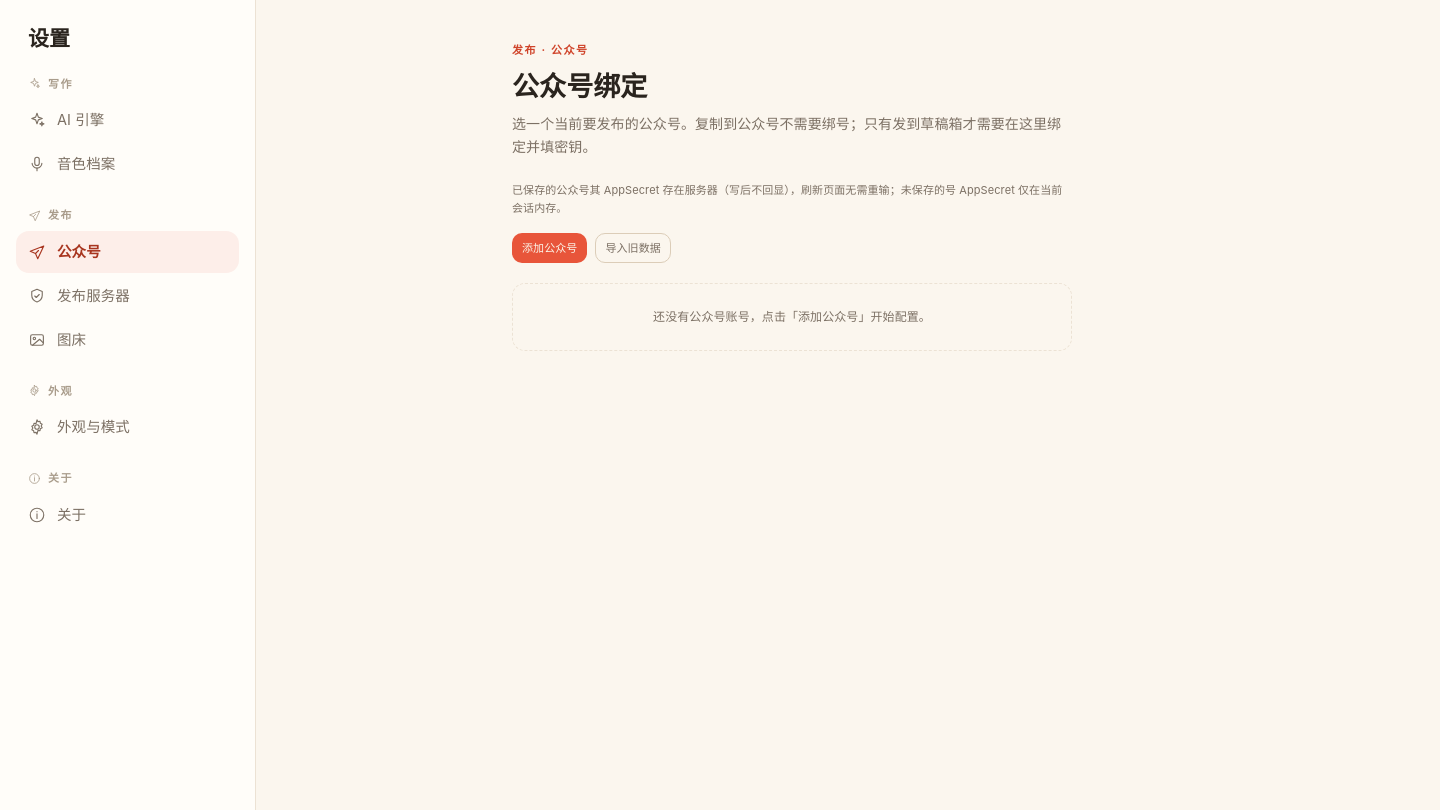
Scenario: SettingsSurface WeChat section › binds a new account through the wizard (test-first) and persists to store
This screenshot has width=1440, height=810.
Click the button "添加公众号" at (550, 248), box left=512, top=233, right=587, bottom=263
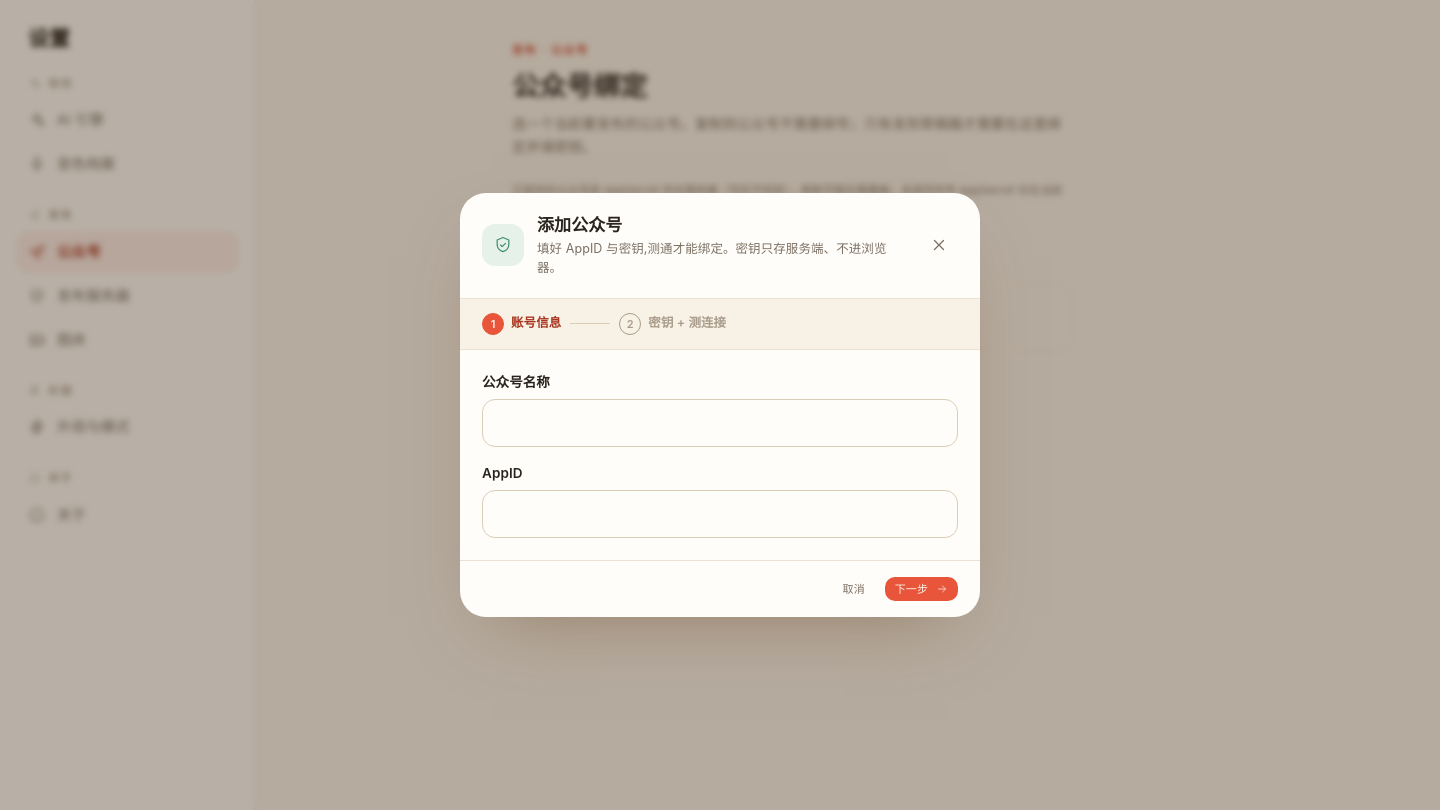
Type "MB 科技" into the field named "名称" at (720, 423), box left=497, top=400, right=943, bottom=446
Type "wxa7b6e6test" into the field named "AppID" at (720, 514), box left=497, top=491, right=943, bottom=537
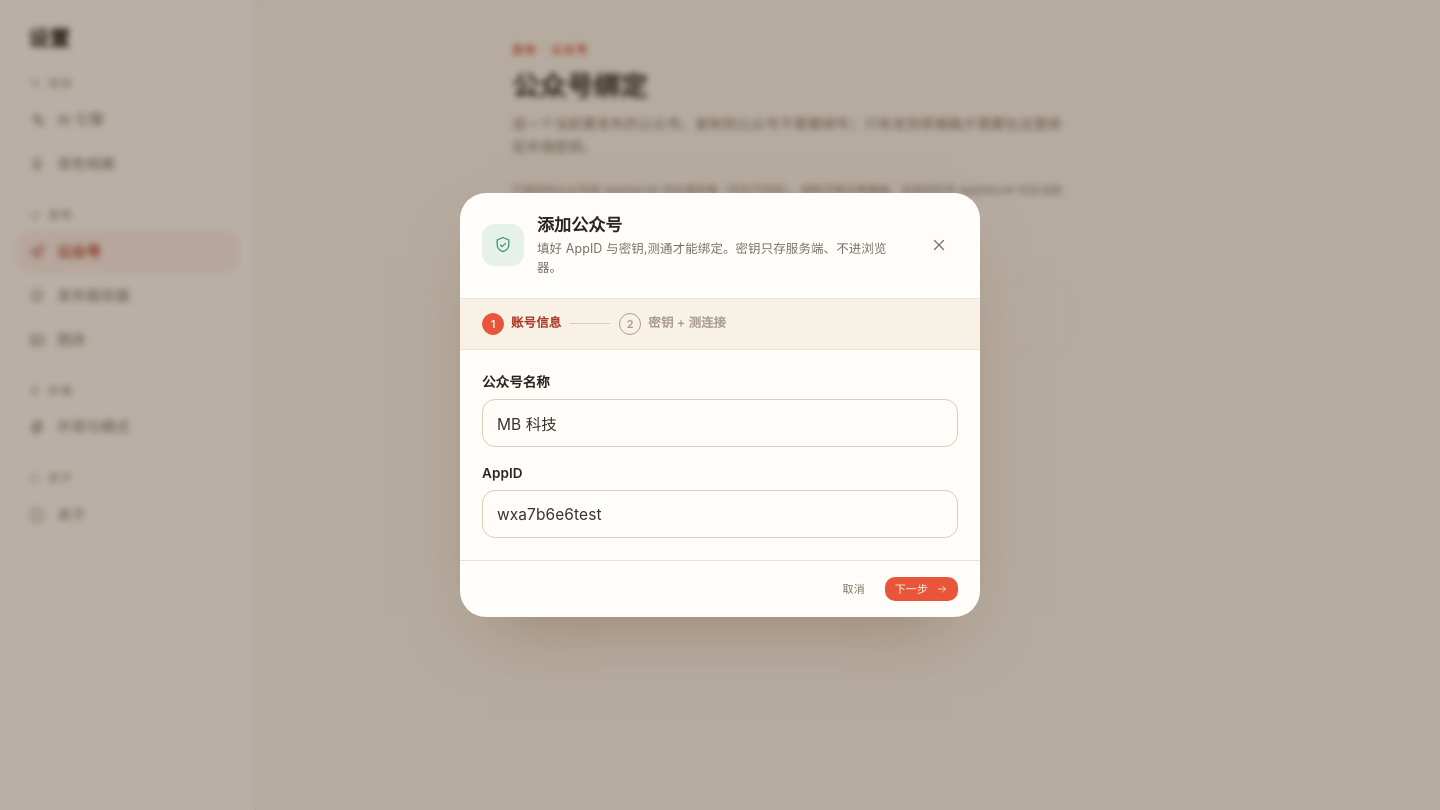
Click the button "下一步" at (921, 589), box left=885, top=577, right=958, bottom=601
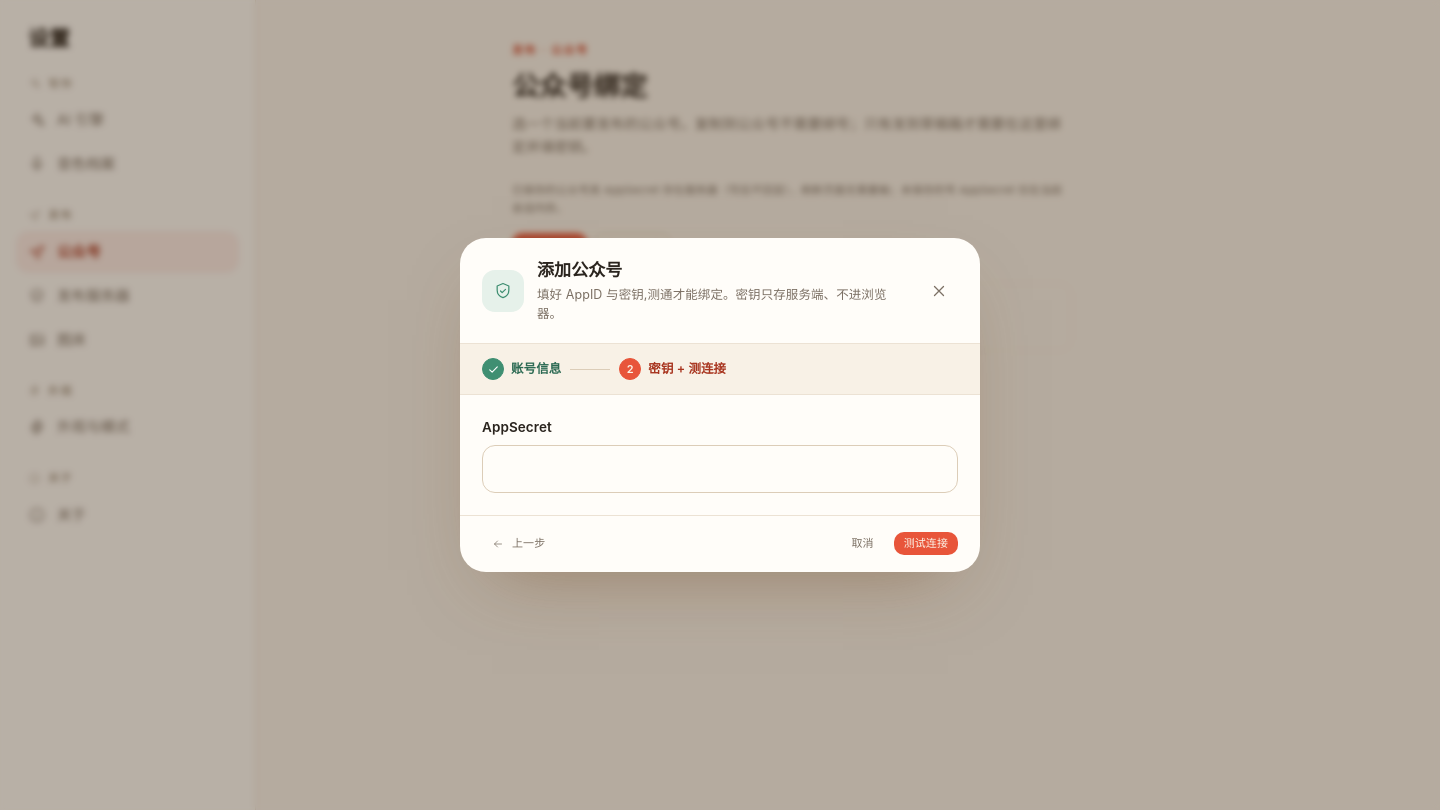
Type "secret123" into the password field named "AppSecret" at (720, 469), box left=497, top=446, right=943, bottom=492
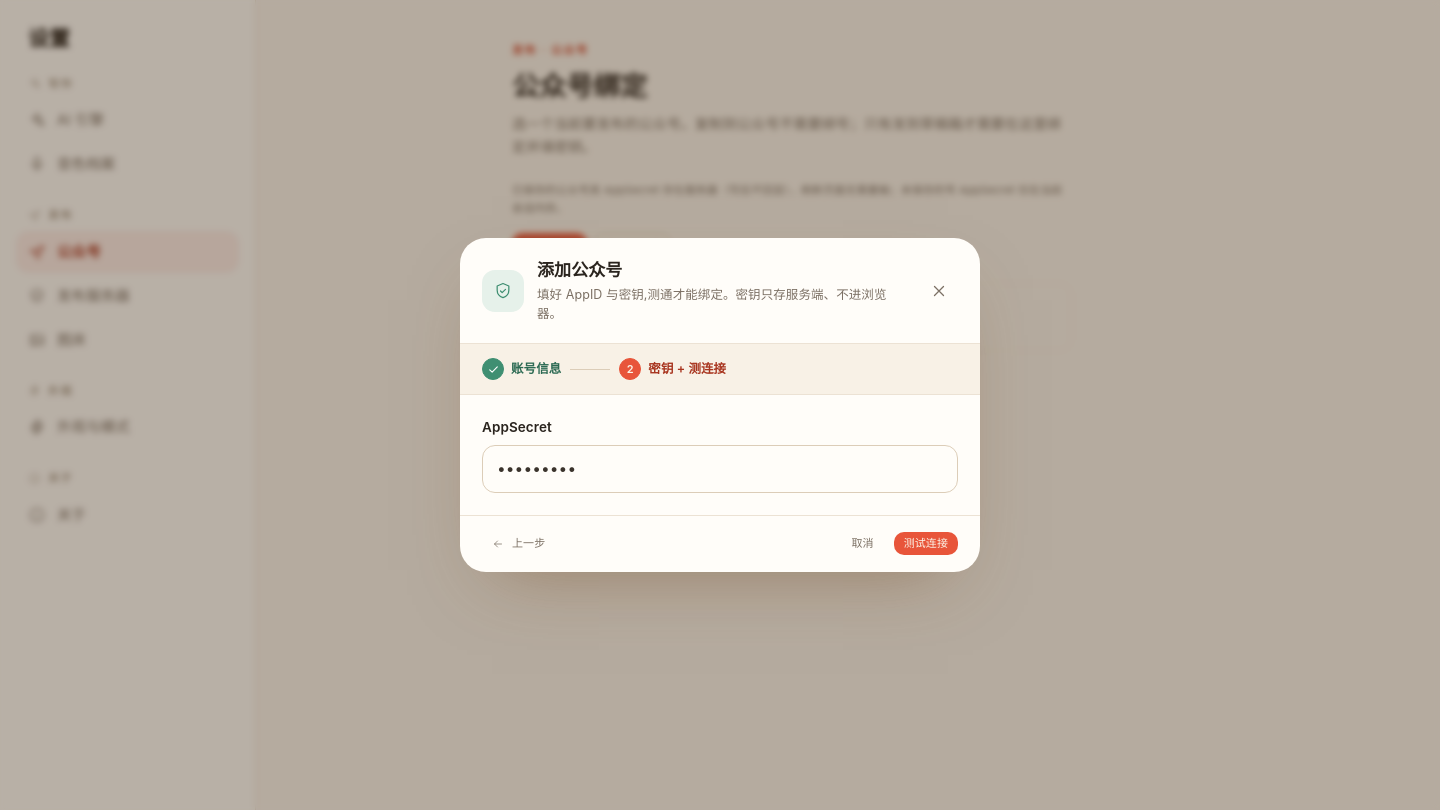
Click the button "测试连接" at (926, 544), box left=894, top=532, right=958, bottom=555
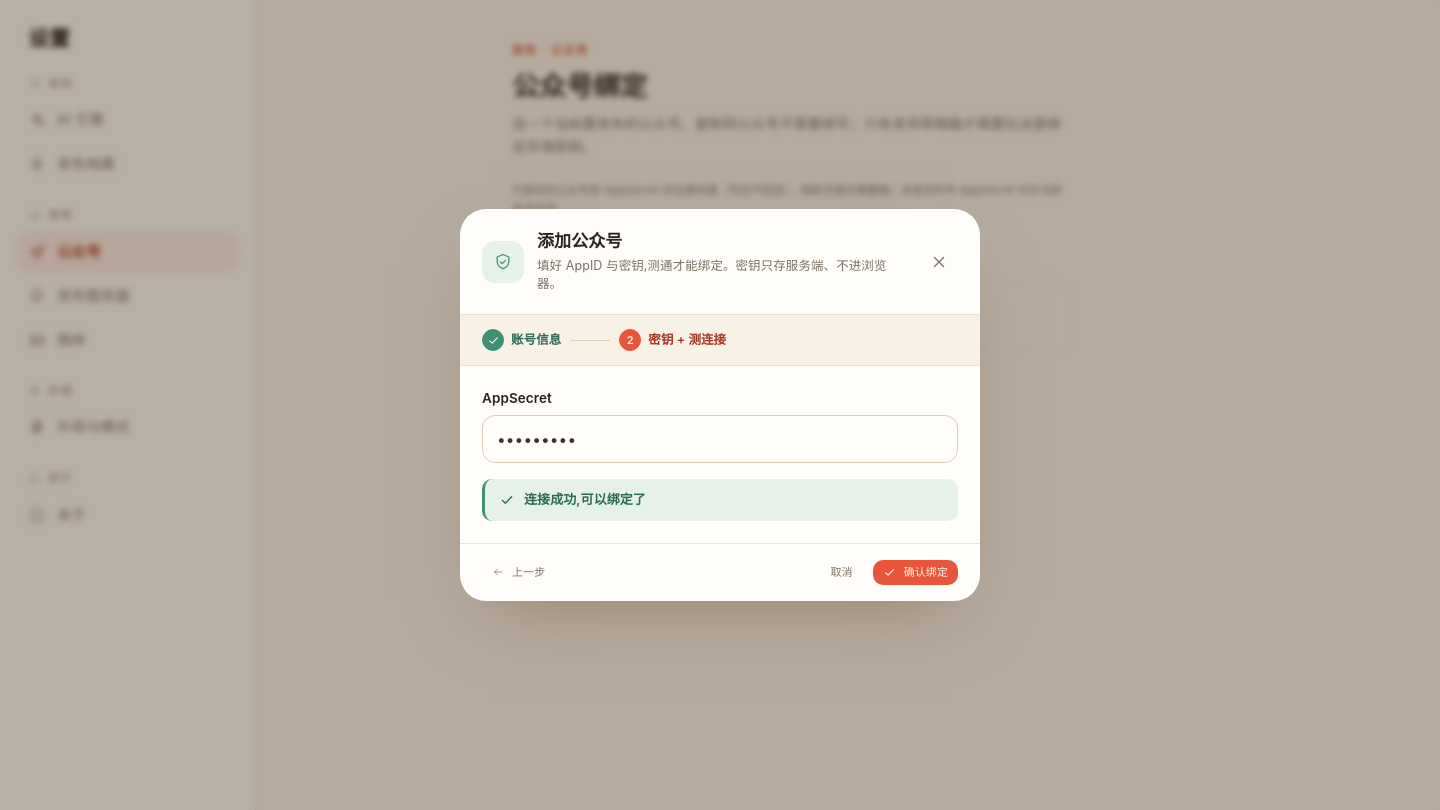
Click the button "确认绑定" at (915, 572), box left=873, top=560, right=958, bottom=585
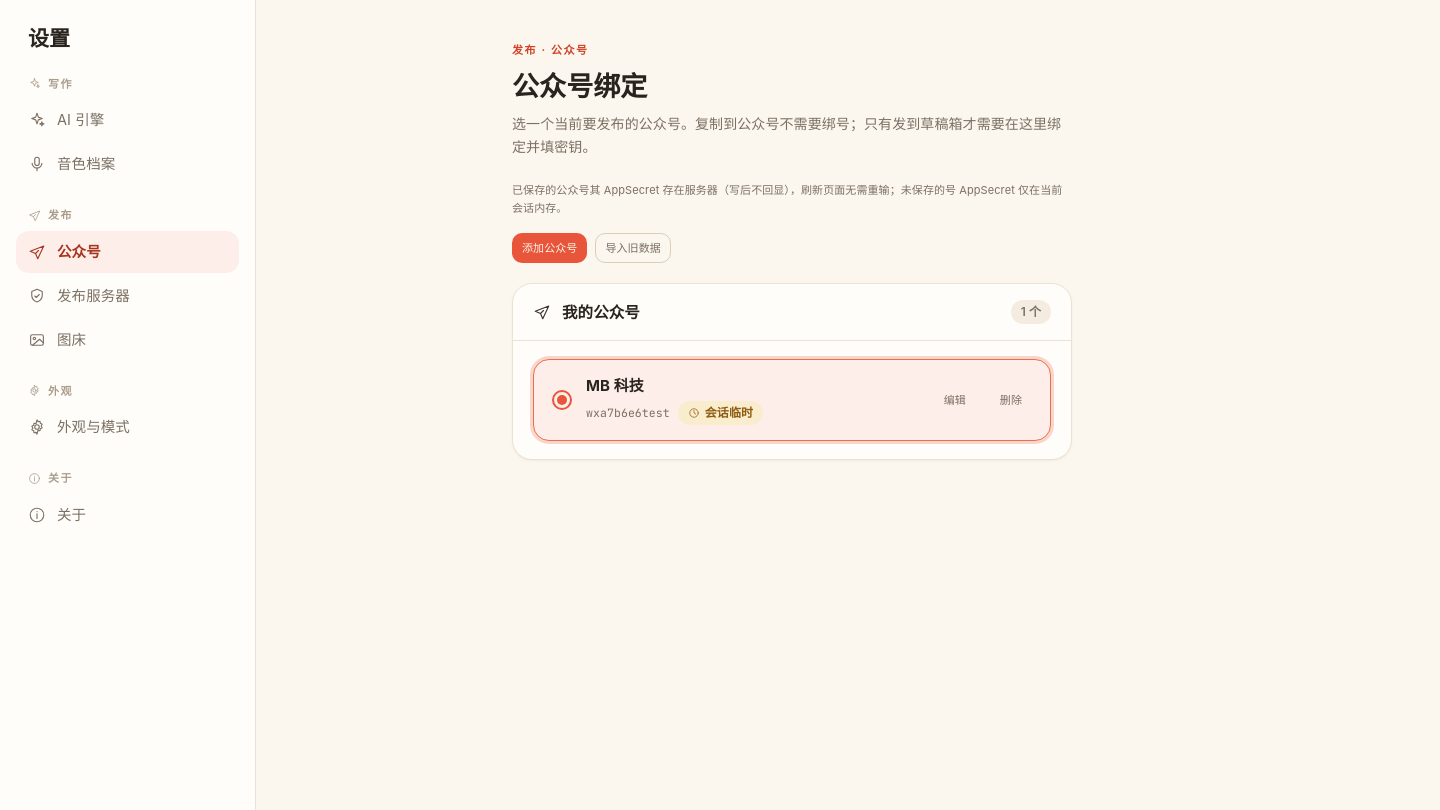
Expected: the text "wxa7b6e6test" is shown, left=586, top=404, right=670, bottom=421
